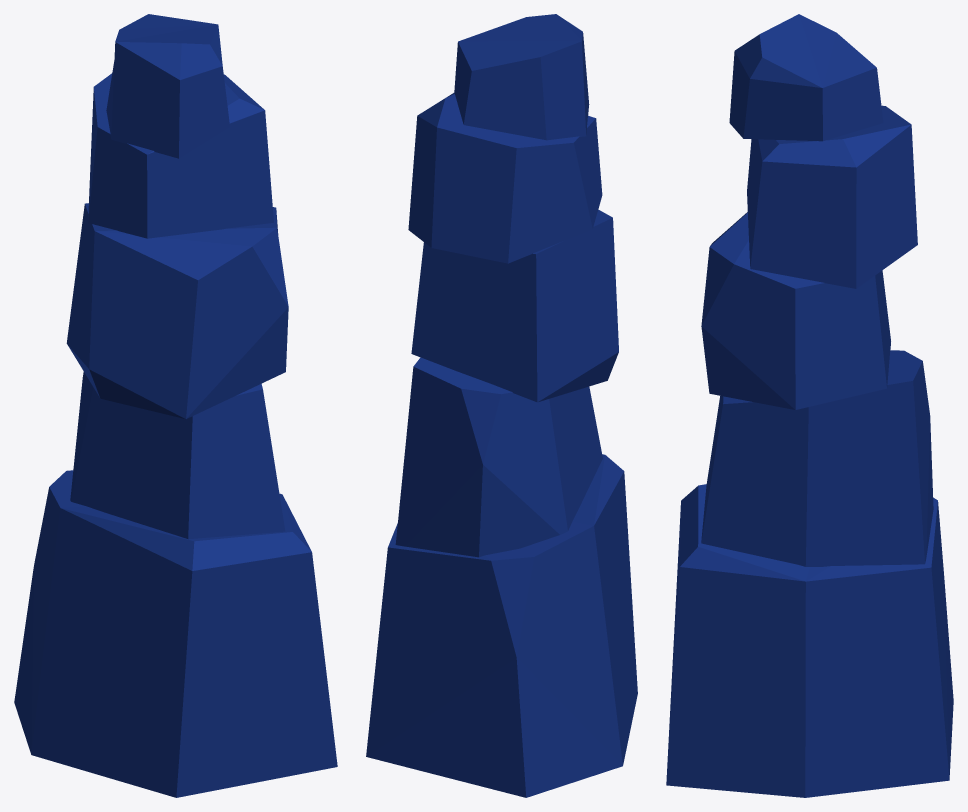
Rendered from barrier_001.fbx.
3 renders of one model, left to right at view 1: azimuth 30°, elevation 25°; view 2: azimuth 150°, elevation 25°; view 3: azimuth 270°, elevation 25°, orthographic. The views are drawn at different scales.
Visible parts, largest first — view 1: barrier; view 2: barrier; view 3: barrier.
Part boxes in pixels (bbox=[...]): barrier: bbox=[14, 14, 337, 797]; barrier: bbox=[366, 14, 637, 797]; barrier: bbox=[666, 14, 953, 797].
Bounding box in the file's own units: 224 × 628 × 234.
